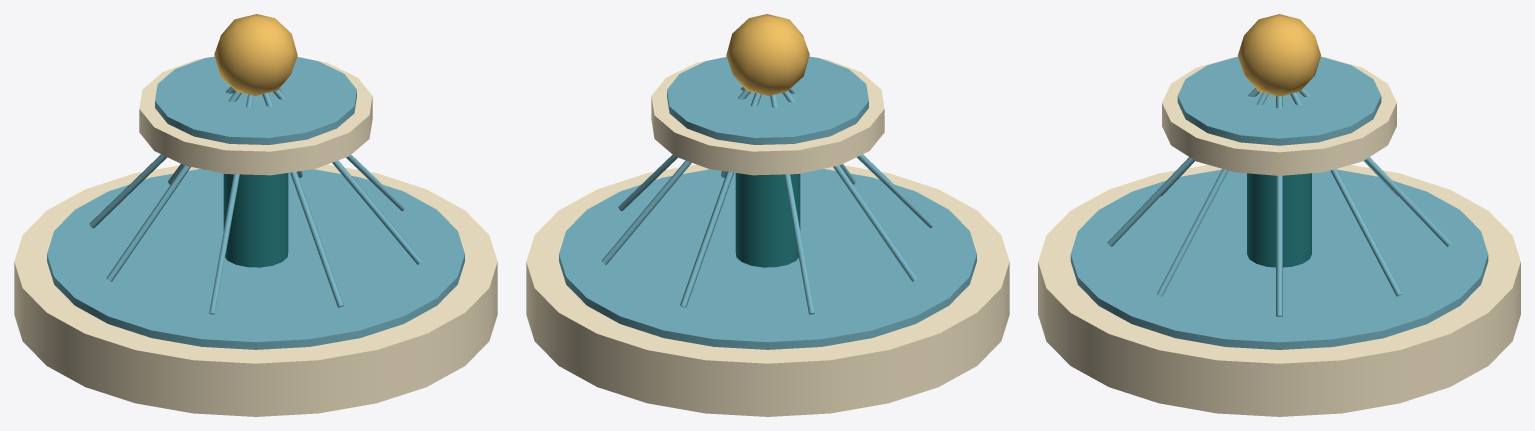
Rendered from deco_fountain.glb.
3 renders of one model, left to right at view 1: azimuth 30°, elevation 25°; view 2: azimuth 150°, elevation 25°; view 3: azimuth 270°, elevation 25°, orthographic.
Parts seen in each view (by area): view 1: deco_fountain; view 2: deco_fountain; view 3: deco_fountain.
Boxes of the visible parts, x1,y1,x2,y2 form: deco_fountain: (14,14,497,416); deco_fountain: (526,14,1009,416); deco_fountain: (1038,14,1520,416).
Size of the model in its own units: 3.7 by 2.51 by 3.7.
